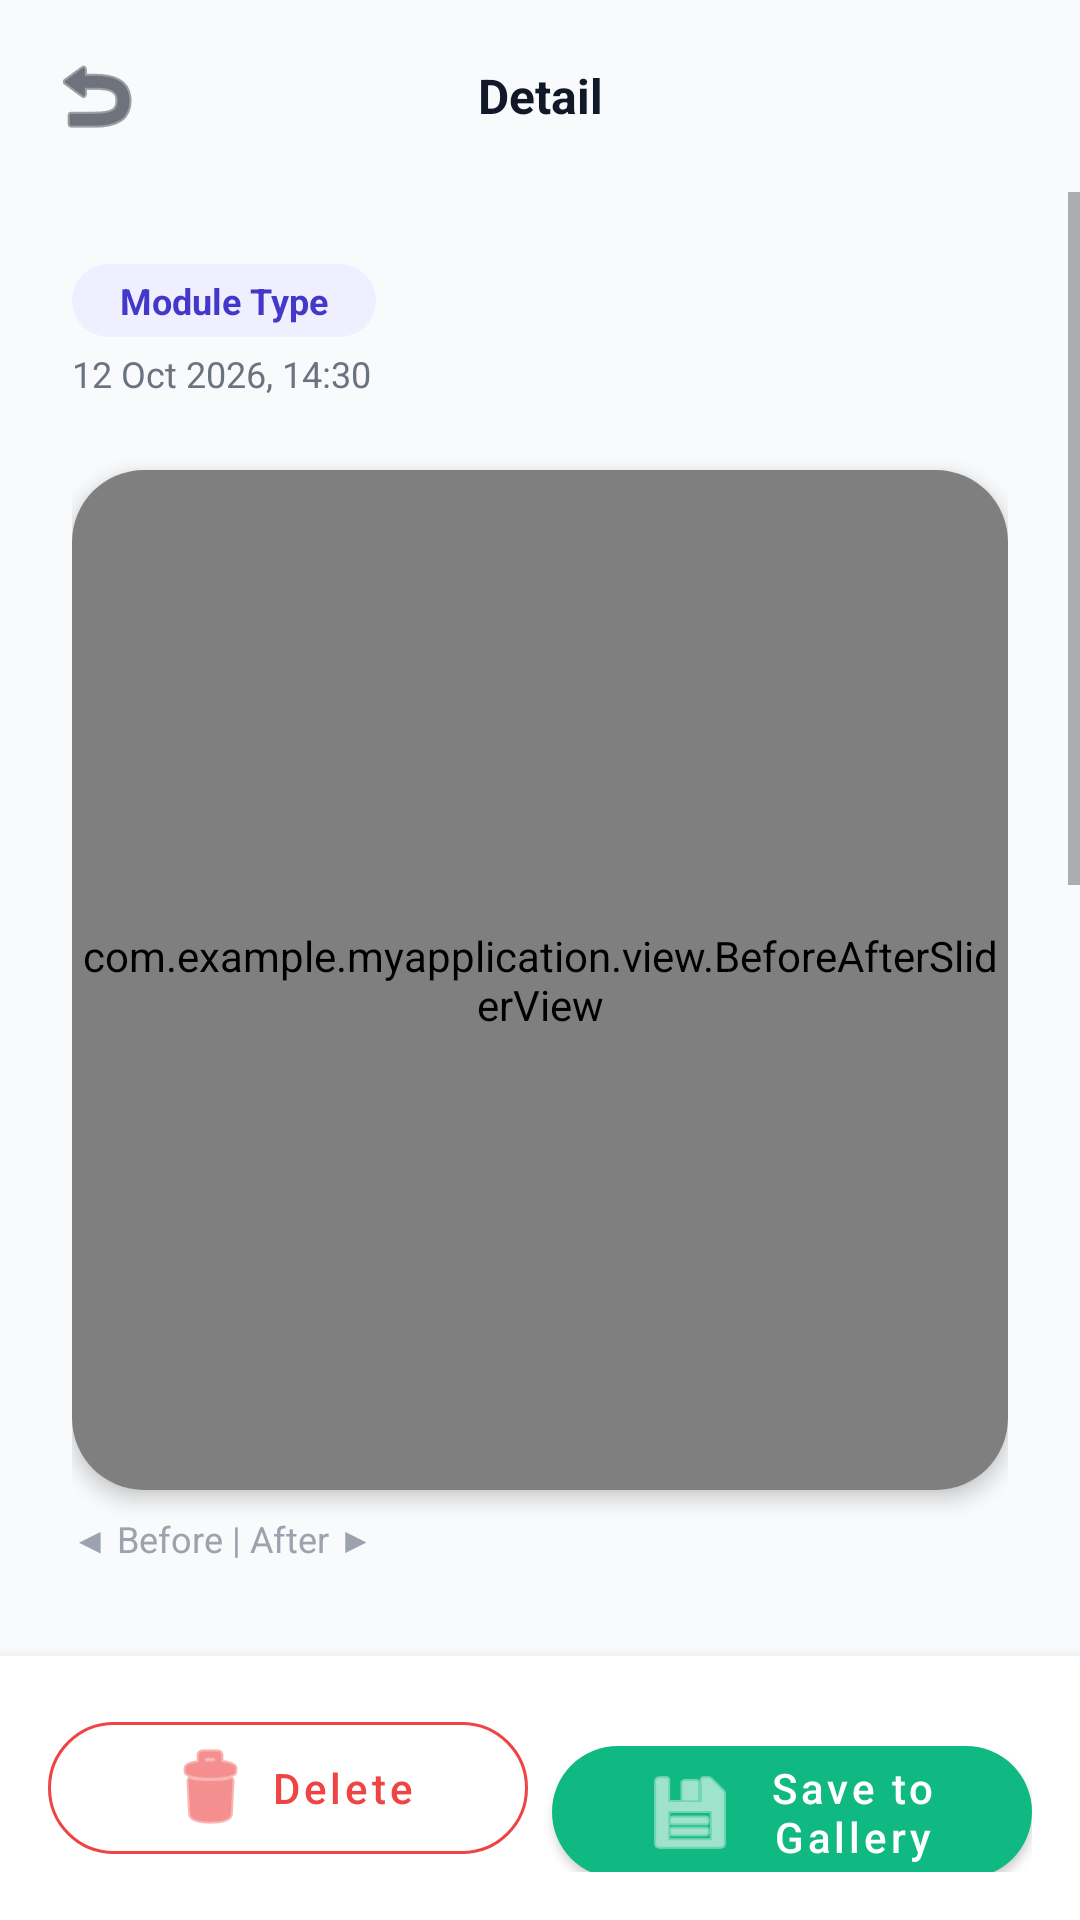

Icons on this 1080w x 1920h Android screen, each with its box as (x1, y1, x2, y2):
Back: (63, 65, 132, 128)
